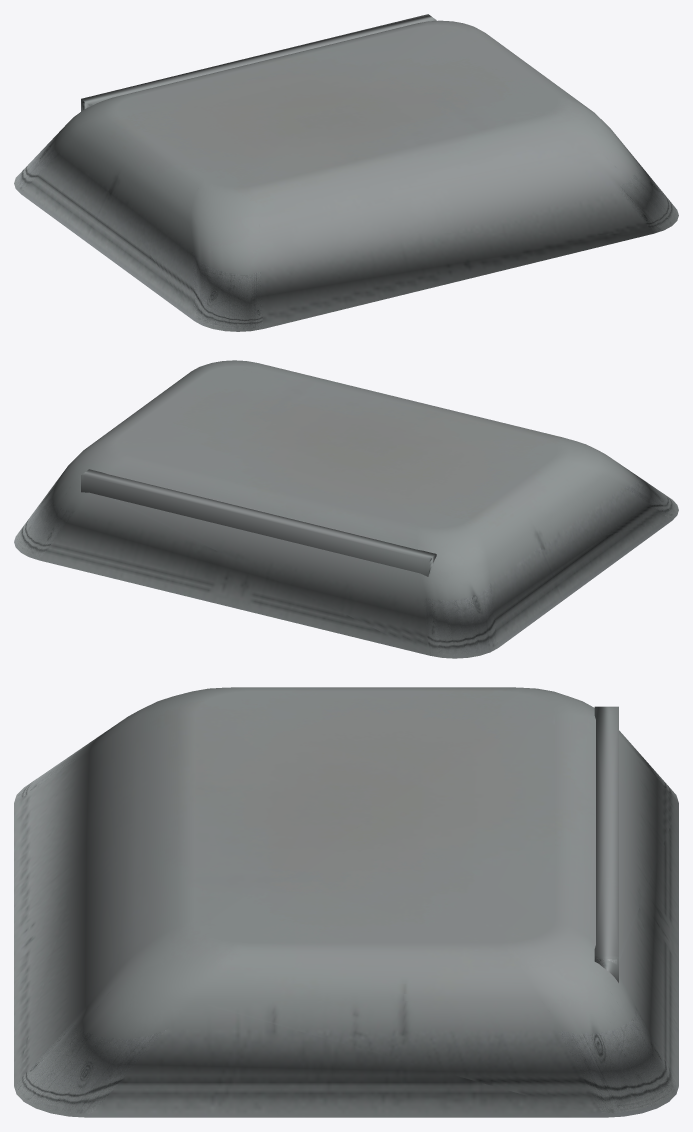
Rendered from SM_Passerelle.glb.
3 renders of one model, top to bottom at view 1: azimuth 30°, elevation 25°; view 2: azimuth 150°, elevation 25°; view 3: azimuth 270°, elevation 25°, orthographic. The views are drawn at different scales.
Bounding box in the file's own units: 2 × 0.3439 × 1.62.
Materials: 1 (1 with a texture image).
